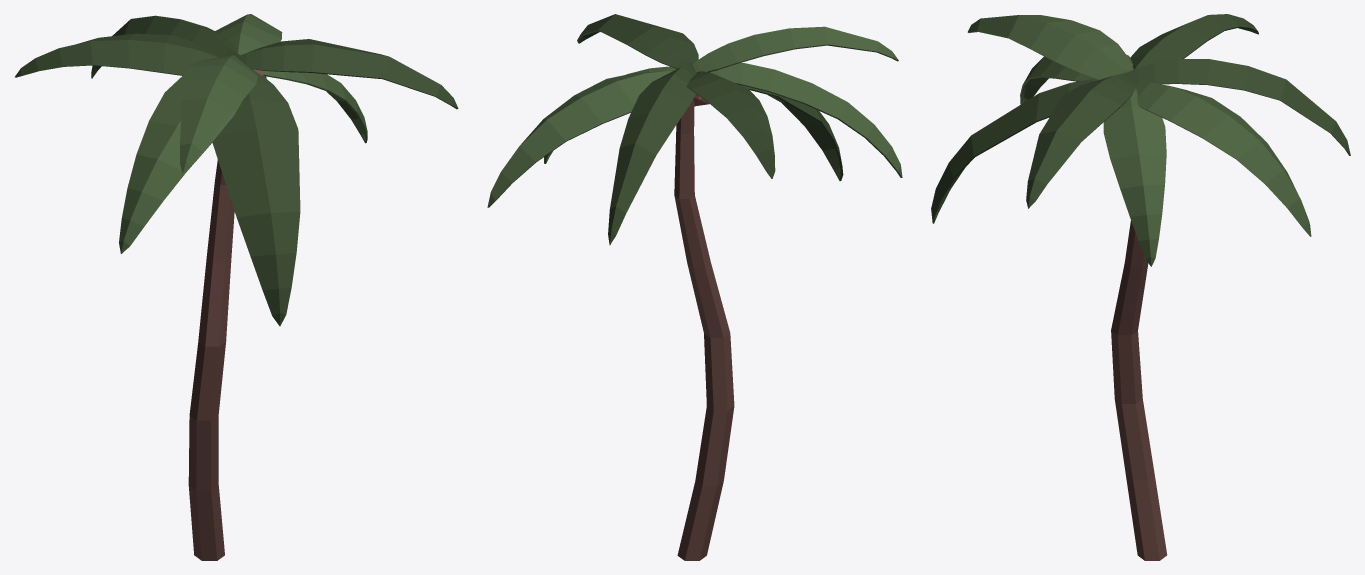
File: PalmTree_4.gltf
The picture shows the model from 3 angles, left to right: view 1: azimuth 30°, elevation 25°; view 2: azimuth 150°, elevation 25°; view 3: azimuth 270°, elevation 25°; orthographic projection. The views are drawn at different scales.
Visible parts, largest first — view 1: PalmTree_4; view 2: PalmTree_4; view 3: PalmTree_4.
Part boxes in pixels (x1=…): PalmTree_4: x1=15, y1=14, x2=458, y2=560; PalmTree_4: x1=487, y1=14, x2=902, y2=560; PalmTree_4: x1=931, y1=14, x2=1350, y2=560.
Size of the model in its own units: 2.34 by 3.47 by 2.59.
